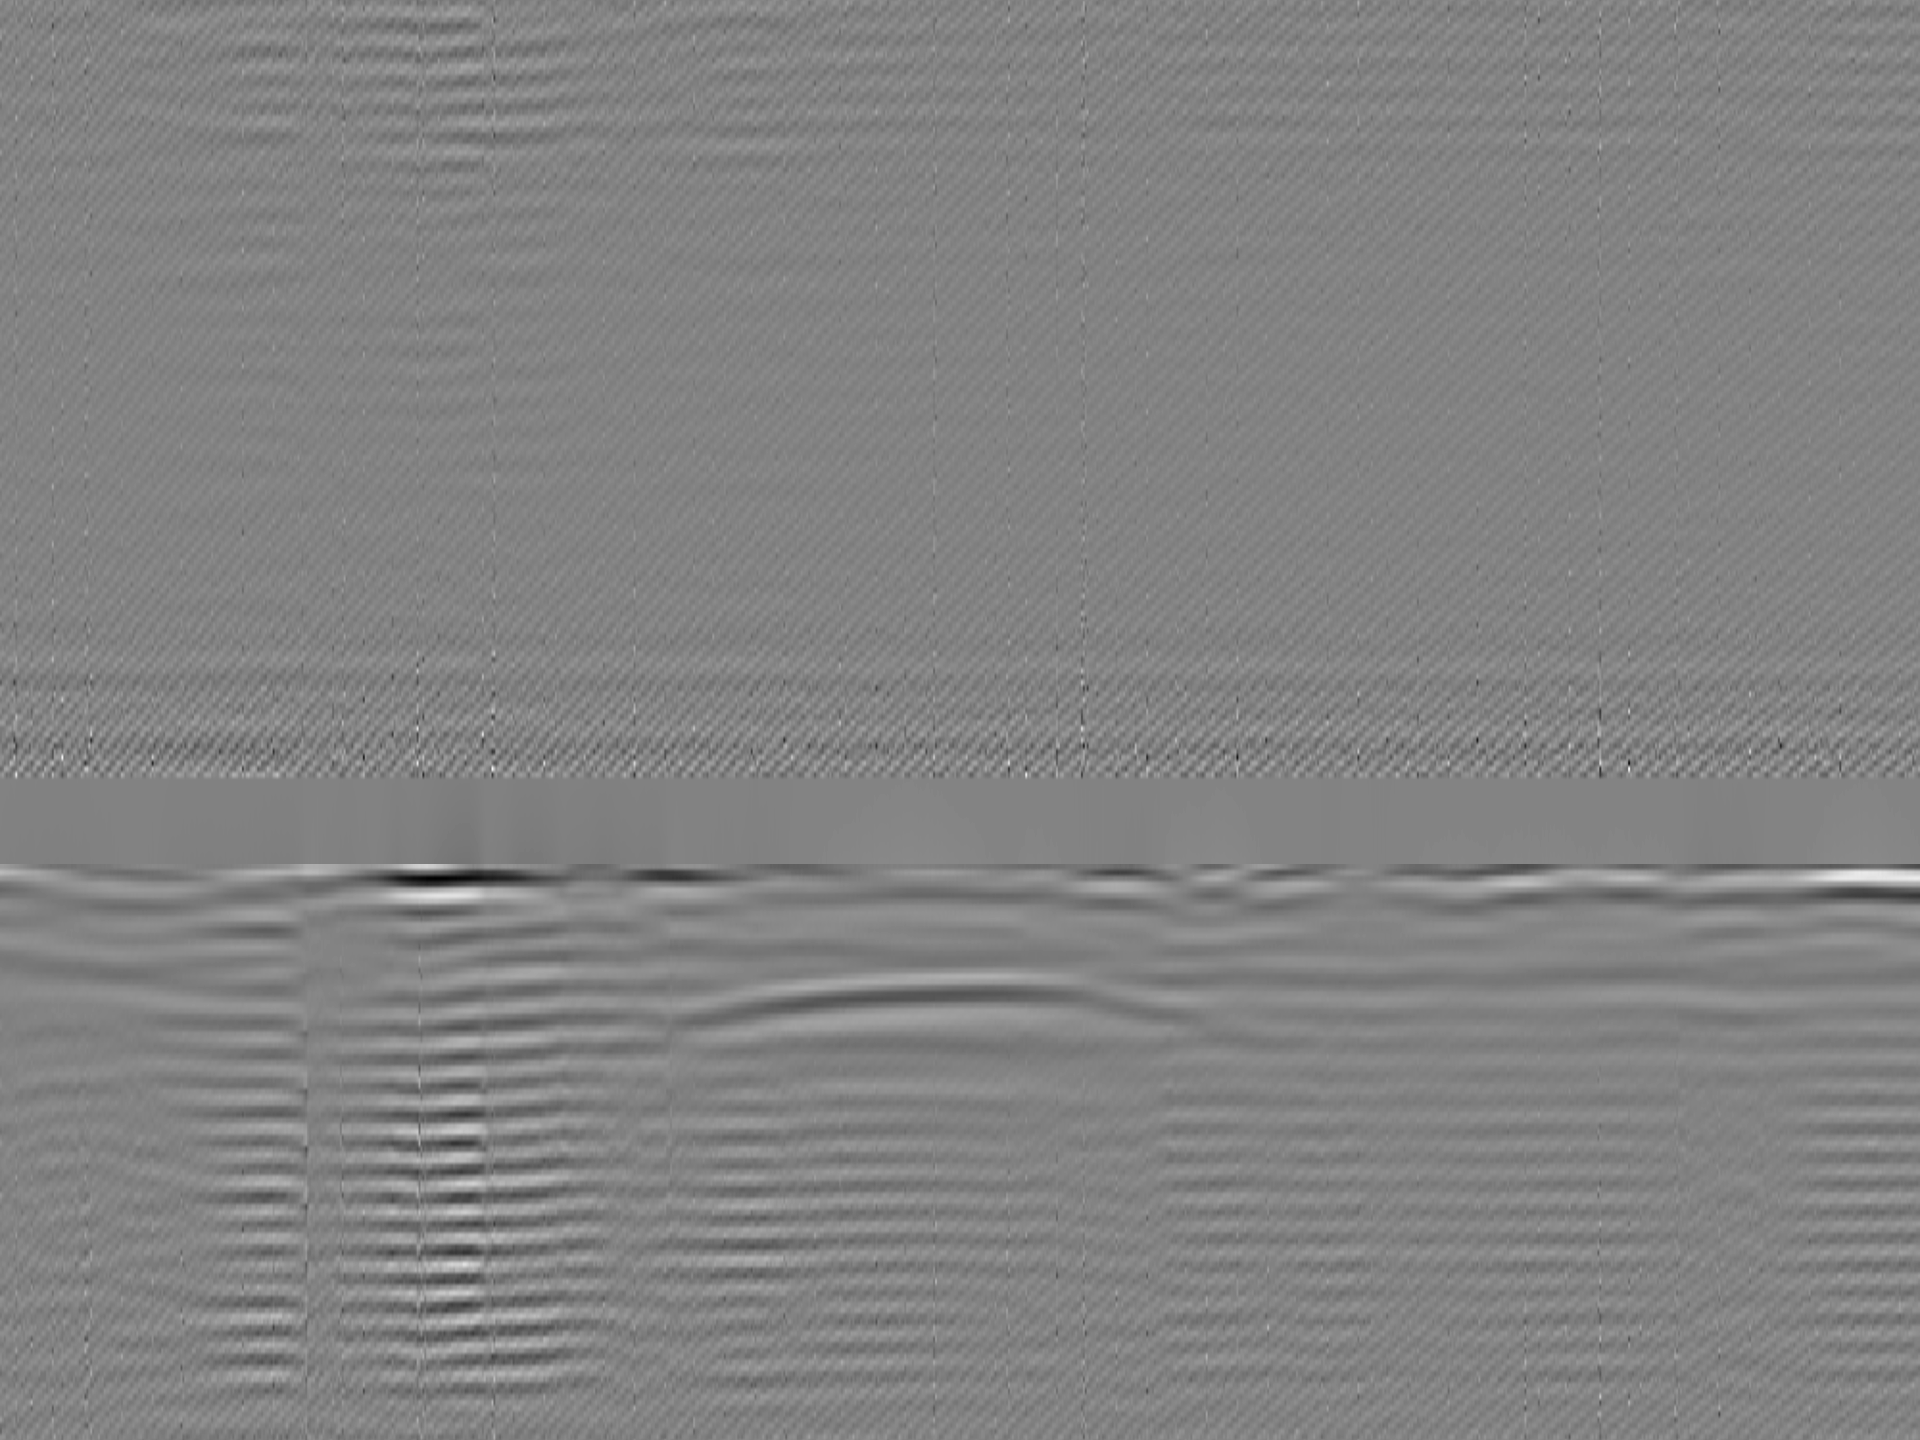Tunnel: (655, 976, 1303, 1051)
